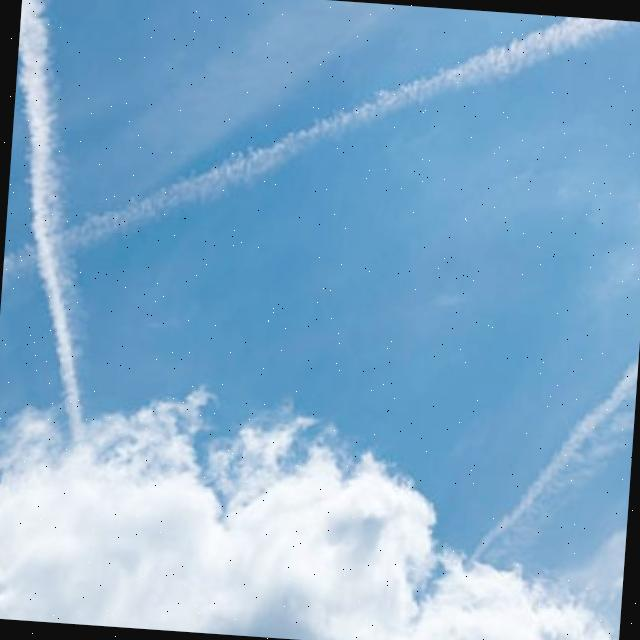Ct: (1, 1, 640, 597)
